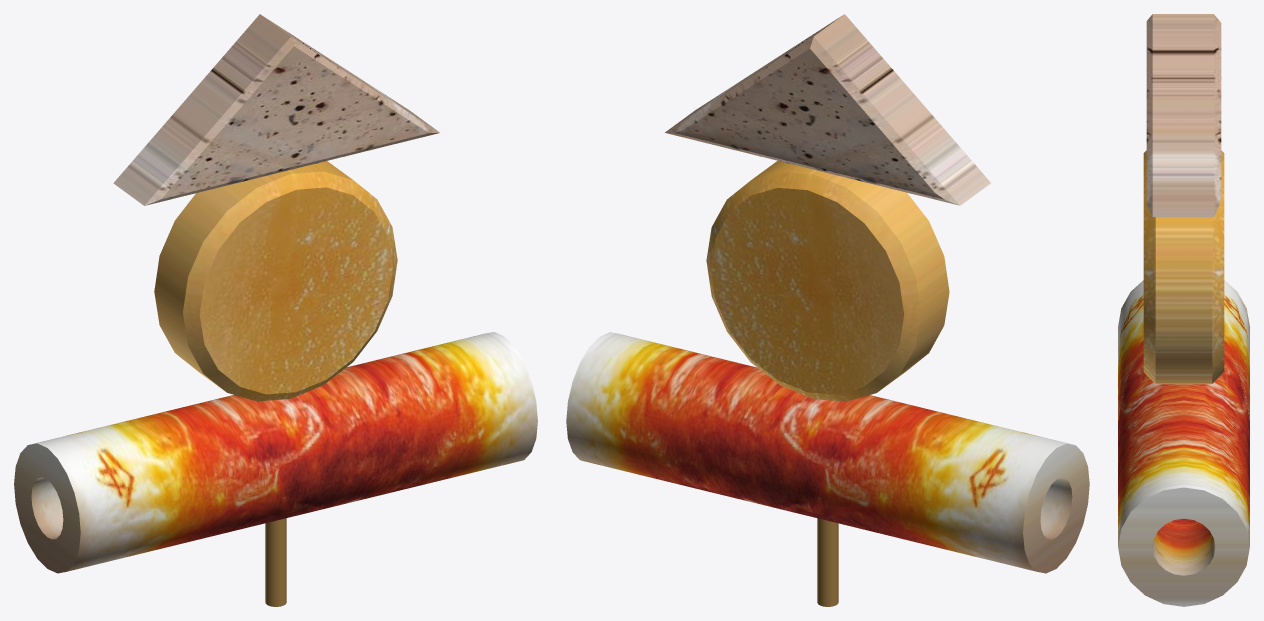
The model's file is Oden.fbx.
The picture shows the model from 3 angles, left to right: view 1: azimuth 30°, elevation 25°; view 2: azimuth 150°, elevation 25°; view 3: azimuth 270°, elevation 25°; orthographic projection.
Parts seen in each view (by area): view 1: pCylinder6; view 2: pCylinder6; view 3: pCylinder6.
Boxes of the visible parts, x1,y1,x2,y2 form: pCylinder6: (14,14,537,606); pCylinder6: (566,14,1089,606); pCylinder6: (1118,14,1249,606).
Size of the model in its own units: 4.26 by 5.14 by 1.08.
Materials: 2 (1 with a texture image).
